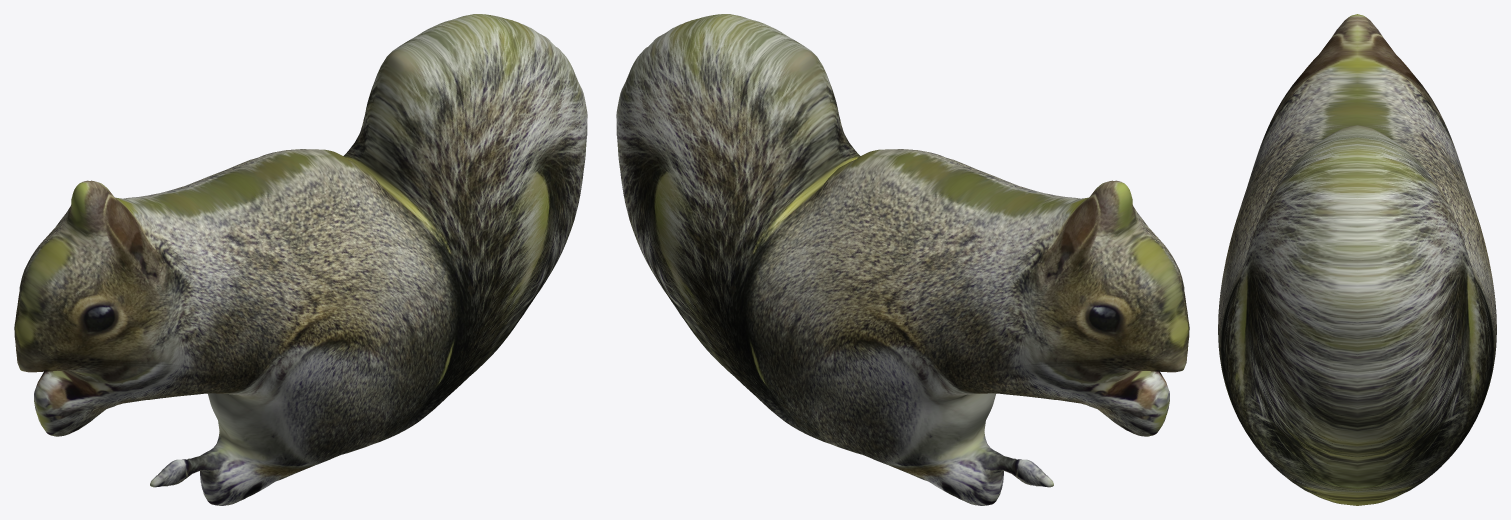
The model's file is asset.glb.
3 renders of one model, left to right at view 1: azimuth 30°, elevation 25°; view 2: azimuth 150°, elevation 25°; view 3: azimuth 270°, elevation 25°, orthographic. The views are drawn at different scales.
Parts seen in each view (by area): view 1: 6f881a08-526c-4836-8dfa-c579d61d80a4; view 2: 6f881a08-526c-4836-8dfa-c579d61d80a4; view 3: 6f881a08-526c-4836-8dfa-c579d61d80a4.
Part boxes in pixels (x1=…): 6f881a08-526c-4836-8dfa-c579d61d80a4: x1=14, y1=14, x2=587, y2=505; 6f881a08-526c-4836-8dfa-c579d61d80a4: x1=616, y1=14, x2=1189, y2=505; 6f881a08-526c-4836-8dfa-c579d61d80a4: x1=1218, y1=14, x2=1496, y2=505.
Size of the model in its own units: 0.5764 by 0.4163 by 0.2337.
1 material, 1 textured.
